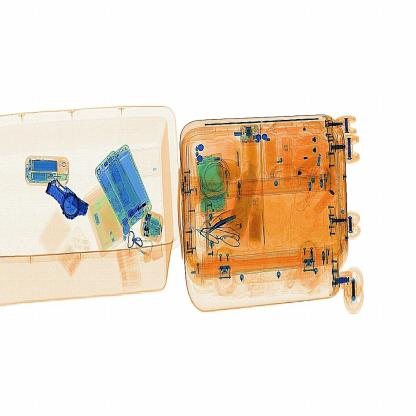pliers: (208, 207, 241, 240)
